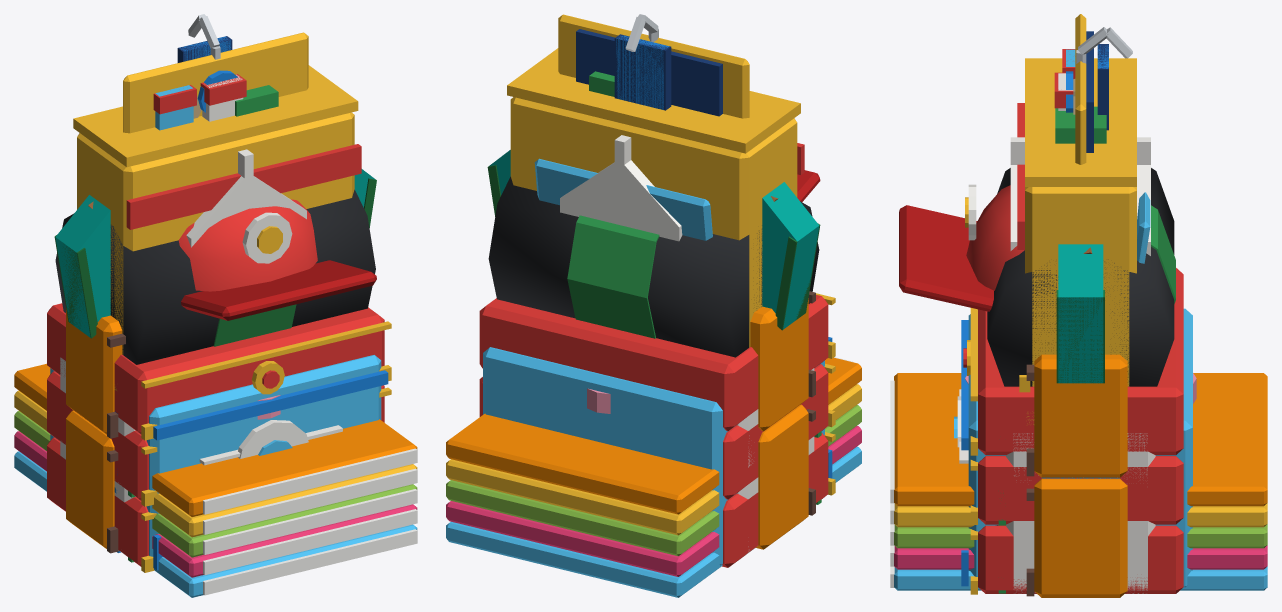
File: products.glb
3 renders of one model, left to right at view 1: azimuth 30°, elevation 25°; view 2: azimuth 150°, elevation 25°; view 3: azimuth 270°, elevation 25°, orthographic. The views are drawn at different scales.
Visible parts, largest first — view 1: PR_notebook, PR_cereal, PR_noodle, PR_trash_bag, PR_tissue, PR_cap, PR_wafer, PR_flipflops, PR_tshirt, PR_socks, PR_milk, PR_dishsoap (+1 smaller); view 2: PR_notebook, PR_trash_bag, PR_cereal, PR_noodle, PR_tissue, PR_wafer, PR_tshirt, PR_socks, PR_milk, PR_flipflops, PR_cap, PR_ruler_set (+2 smaller); view 3: PR_notebook, PR_noodle, PR_cereal, PR_wafer, PR_trash_bag, PR_cap, PR_tshirt, PR_tissue, PR_rice_noodle, PR_milk, PR_socks, PR_flipflops (+2 smaller).
Part boxes in pixels (x1,y1,x2,y2): PR_notebook: [14, 363, 417, 597]; PR_cereal: [73, 65, 361, 354]; PR_noodle: [47, 303, 391, 572]; PR_trash_bag: [55, 189, 375, 499]; PR_tissue: [50, 355, 388, 570]; PR_cap: [177, 36, 376, 320]; PR_wafer: [66, 308, 125, 553]; PR_flipflops: [123, 32, 308, 133]; PR_tshirt: [54, 14, 376, 338]; PR_socks: [153, 36, 246, 130]; PR_milk: [186, 149, 306, 247]; PR_dishsoap: [235, 85, 278, 116]; PR_notebook: [446, 357, 861, 597]; PR_trash_bag: [488, 176, 819, 357]; PR_cereal: [507, 48, 804, 347]; PR_noodle: [479, 293, 835, 567]; PR_tissue: [483, 337, 832, 565]; PR_wafer: [750, 291, 815, 549]; PR_tshirt: [487, 14, 820, 330]; PR_socks: [576, 29, 722, 116]; PR_milk: [560, 135, 682, 241]; PR_flipflops: [558, 14, 749, 118]; PR_cap: [614, 32, 820, 201]; PR_ruler_set: [534, 158, 712, 240]; PR_notebook: [890, 373, 1267, 590]; PR_noodle: [963, 268, 1183, 594]; PR_cereal: [1017, 58, 1136, 386]; PR_wafer: [1026, 354, 1127, 597]; PR_trash_bag: [987, 168, 1175, 525]; PR_cap: [899, 44, 1108, 311]; PR_tshirt: [1056, 27, 1132, 383]; PR_tissue: [954, 308, 1192, 587]; PR_rice_noodle: [998, 433, 1155, 593]; PR_milk: [1010, 137, 1150, 255]; PR_socks: [1054, 31, 1108, 152]; PR_flipflops: [1066, 14, 1086, 164].
Size of the model in its own units: 0.194 by 0.2988 by 0.202.
Materials: 2 (1 with a texture image).
